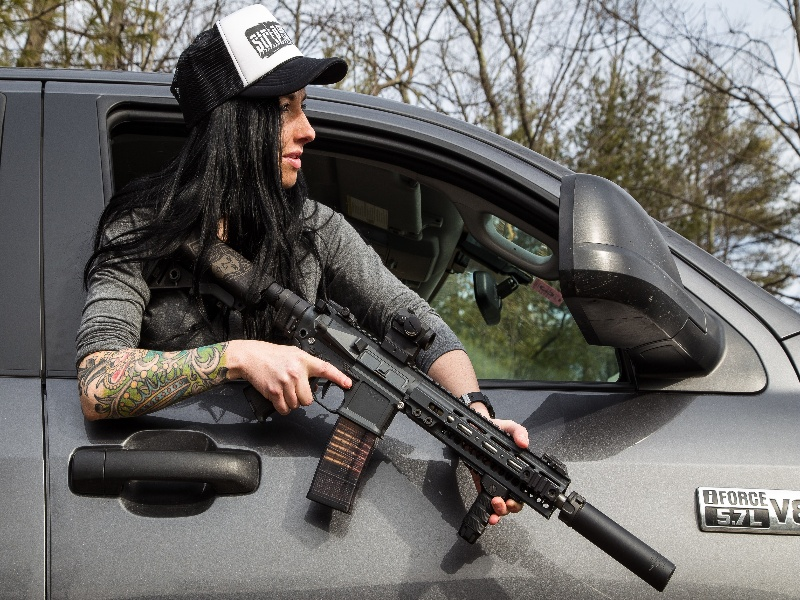car: (1, 65, 800, 600)
person: (75, 4, 530, 523)
weapon: (165, 226, 676, 592)
